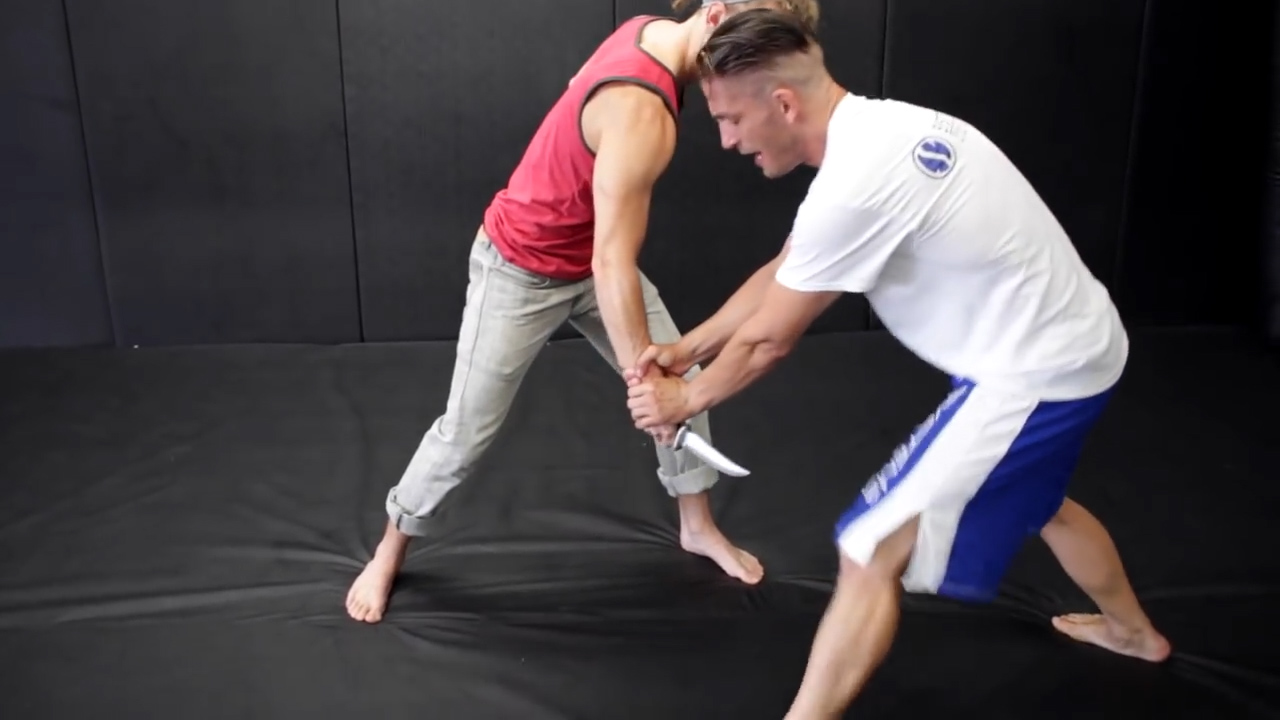knife: (627, 403, 760, 485)
